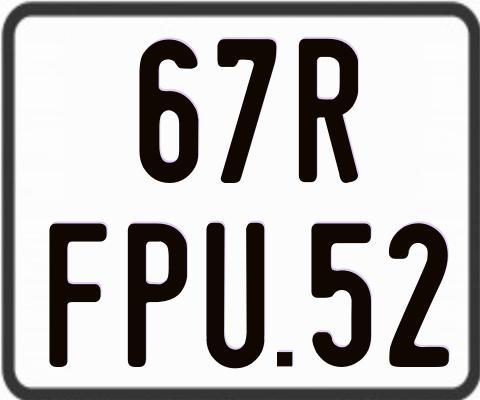2: (389, 223, 454, 371)
5: (308, 221, 368, 370)
6: (138, 37, 197, 181)
7: (214, 37, 276, 181)
F: (49, 220, 110, 365)
P: (125, 222, 186, 372)
R: (299, 39, 360, 183)
U: (206, 222, 264, 372)
